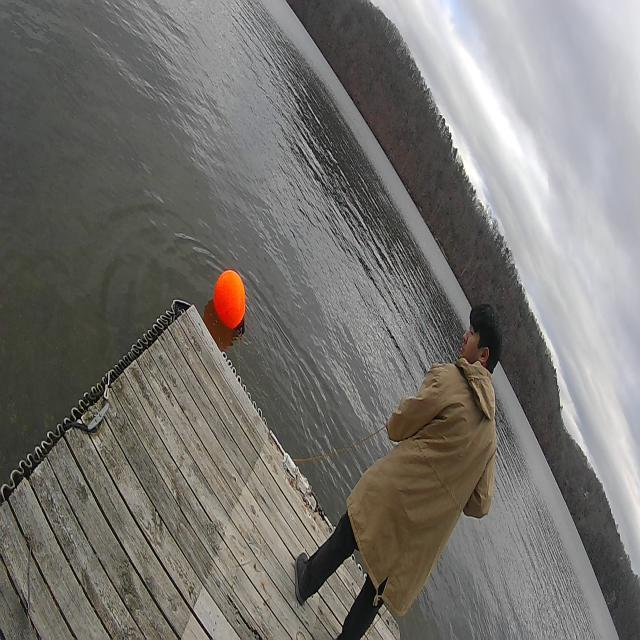Buoy: (210, 263, 252, 344)
